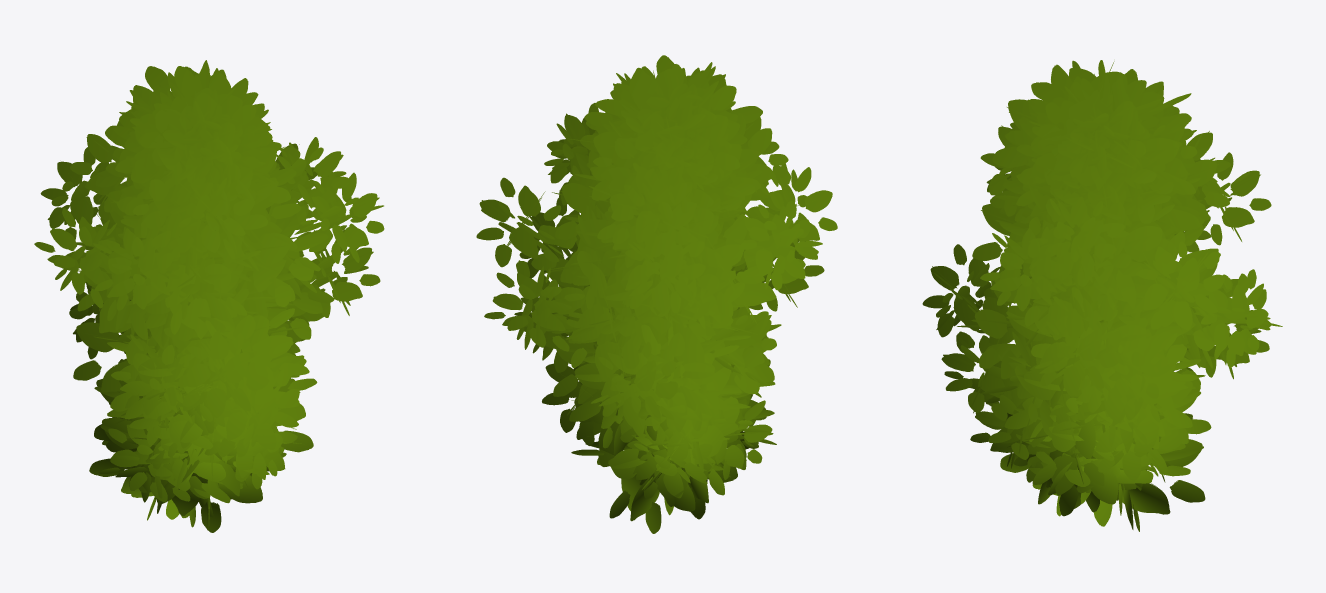
The model's file is Bush_Long_1.gltf.
3 renders of one model, left to right at view 1: azimuth 30°, elevation 25°; view 2: azimuth 150°, elevation 25°; view 3: azimuth 270°, elevation 25°, orthographic. The views are drawn at different scales.
Visible parts, largest first — view 1: Bush_Long_1; view 2: Bush_Long_1; view 3: Bush_Long_1.
Boxes of the visible parts, box(x1,y1,x2,y2) form: Bush_Long_1: box(34, 60, 384, 532); Bush_Long_1: box(476, 55, 837, 533); Bush_Long_1: box(922, 60, 1282, 531).
Size of the model in its own units: 1.68 by 2.37 by 1.64.
Materials: 1 (1 with a texture image).
